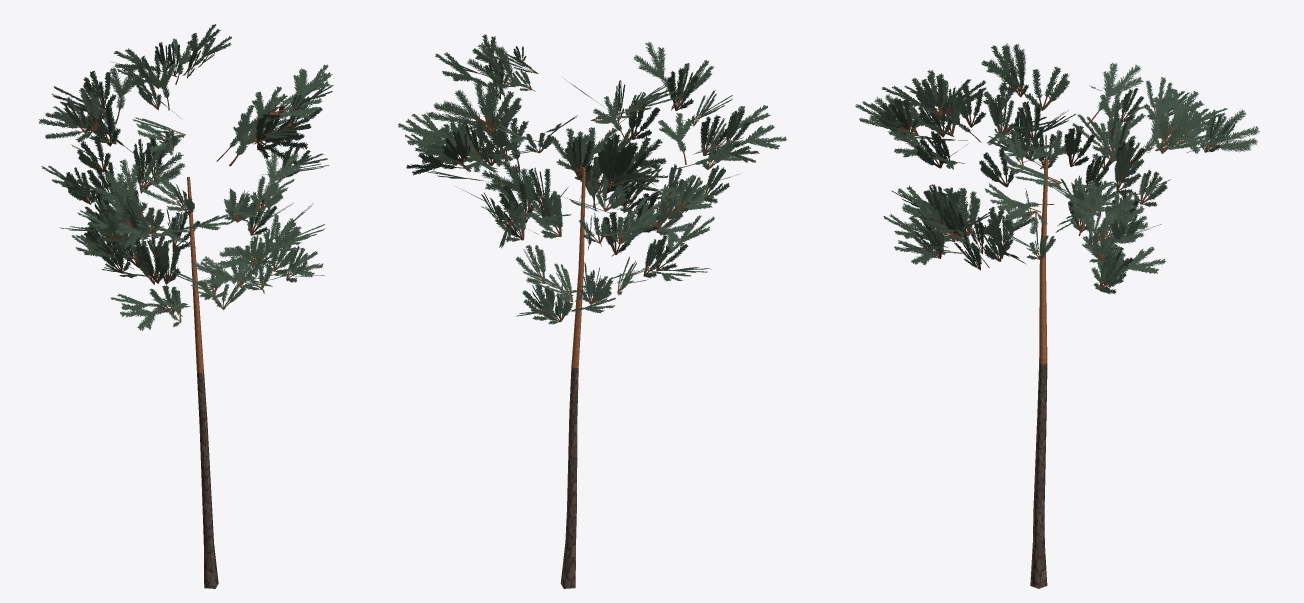
The model's file is pine_b_LOD2.fbx.
3 views of the same model, side by side, from view 1: azimuth 30°, elevation 25°; view 2: azimuth 150°, elevation 25°; view 3: azimuth 270°, elevation 25° (orthographic). The views are drawn at different scales.
Parts seen in each view (by area): view 1: Pine_B_LOD2_Foliage, Pine_B_LOD2_Bark; view 2: Pine_B_LOD2_Foliage, Pine_B_LOD2_Bark; view 3: Pine_B_LOD2_Foliage, Pine_B_LOD2_Bark.
Boxes of the visible parts, box(x1,y1,x2,y2) form: Pine_B_LOD2_Foliage: box(39, 24, 333, 330); Pine_B_LOD2_Bark: box(187, 177, 218, 588); Pine_B_LOD2_Foliage: box(398, 34, 786, 324); Pine_B_LOD2_Bark: box(560, 167, 585, 588); Pine_B_LOD2_Foliage: box(855, 43, 1259, 294); Pine_B_LOD2_Bark: box(1030, 158, 1048, 588).
Bounding box in the file's own units: 11.11 × 17.55 × 13.93.
2 materials, 2 textured.
